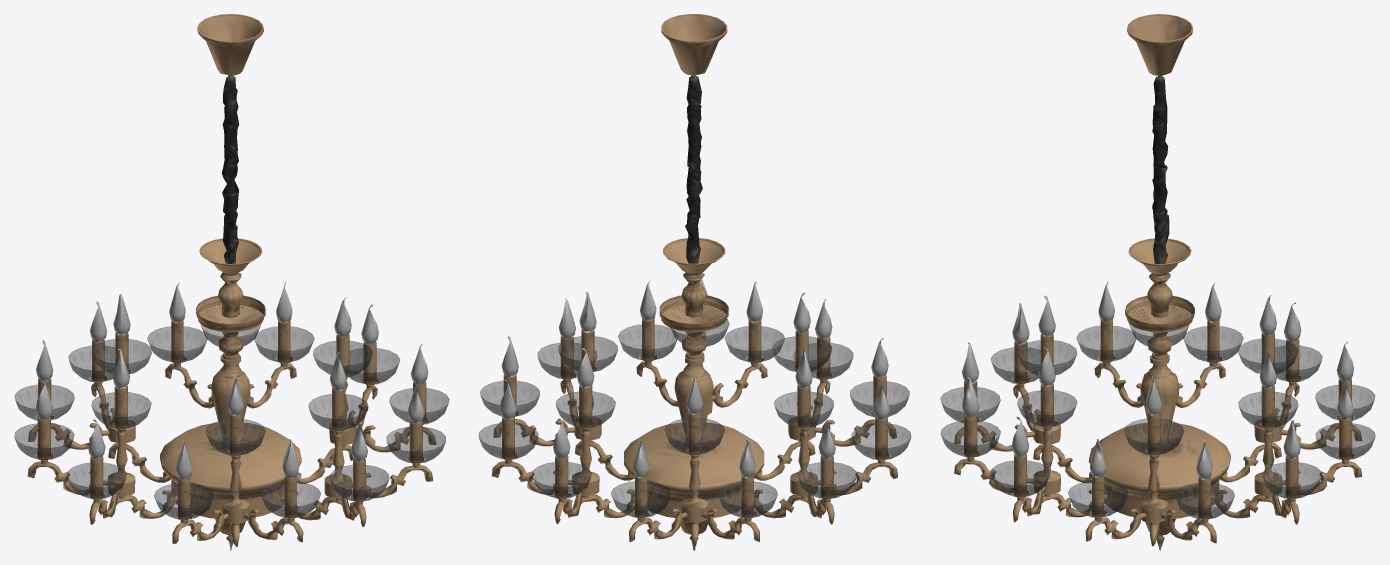
Rendered from Chandelier_03.glb.
The picture shows the model from 3 angles, left to right: view 1: azimuth 30°, elevation 25°; view 2: azimuth 150°, elevation 25°; view 3: azimuth 270°, elevation 25°; orthographic projection.
Visible parts, largest first — view 1: Chandelier_03; view 2: Chandelier_03; view 3: Chandelier_03.
Part boxes in pixels (x1,y1,x2,y2): Chandelier_03: (14,14,449,550); Chandelier_03: (478,14,911,550); Chandelier_03: (940,14,1375,550).
Bounding box in the file's own units: 0.7804 × 1.04 × 0.7852.
Materials: 2 (2 with a texture image).
